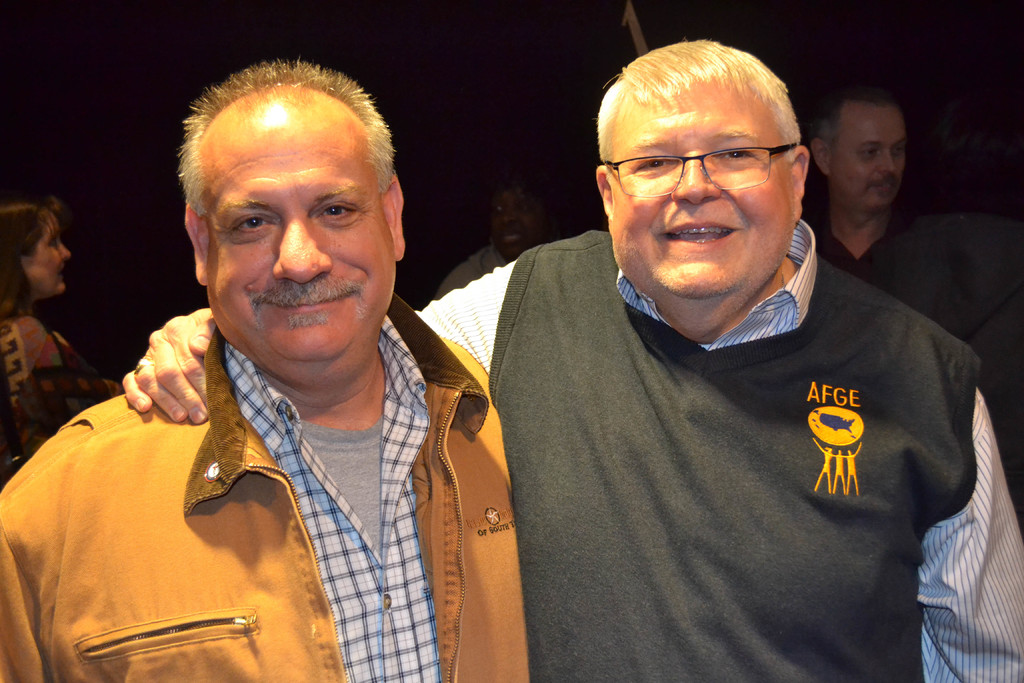Human-face: (199, 119, 398, 358), (595, 86, 792, 297), (830, 104, 910, 210), (18, 220, 74, 297), (493, 176, 545, 253)
